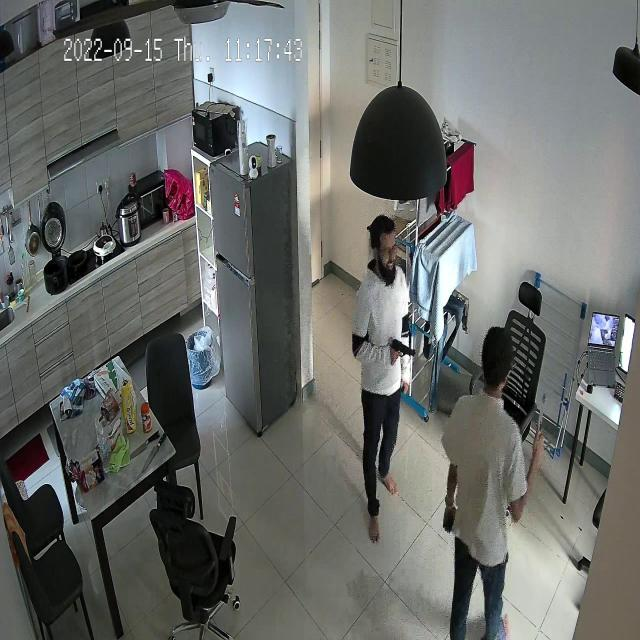Gun: (384, 336, 424, 377)
Knife: (533, 386, 550, 439)
